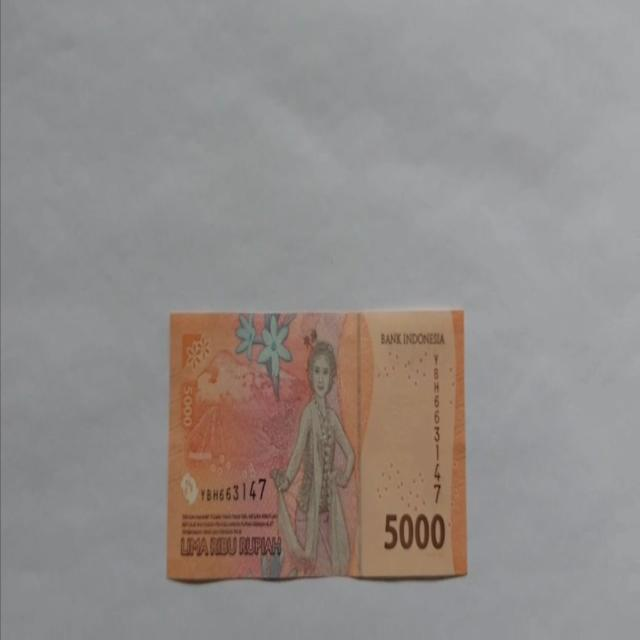lima ribu rupiah: (166, 307, 468, 584), (268, 339, 356, 577)
